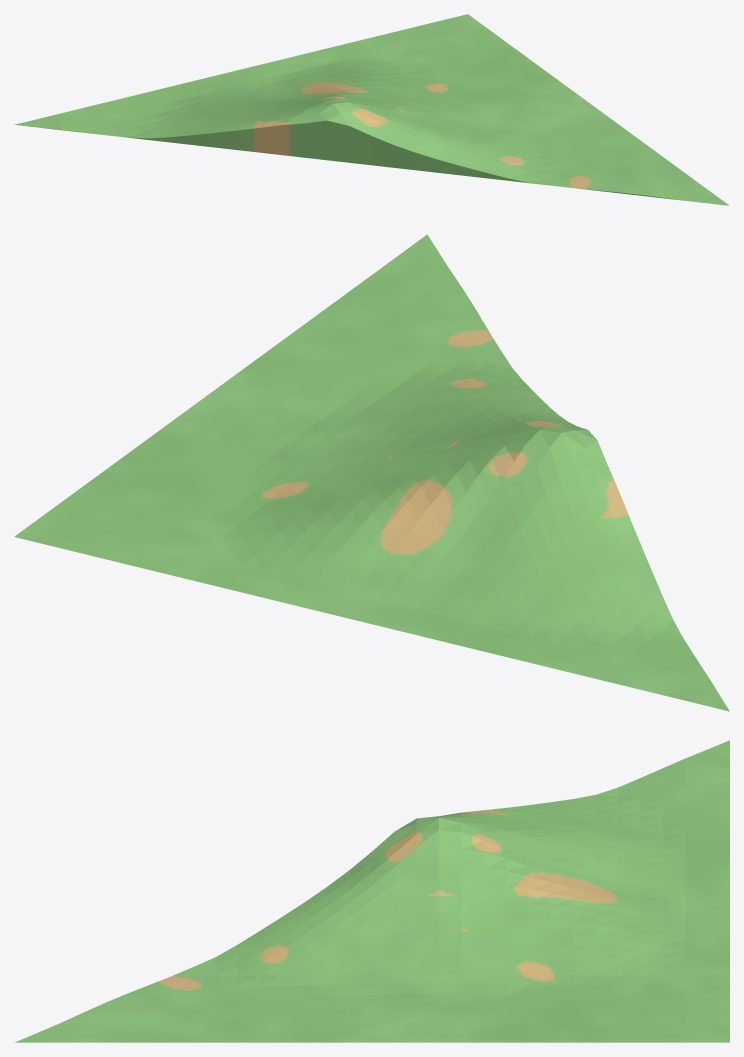
File: Grass_Hills_01_SE.obj
The picture shows the model from 3 angles, top to bottom: view 1: azimuth 30°, elevation 25°; view 2: azimuth 150°, elevation 25°; view 3: azimuth 270°, elevation 25°; orthographic projection. The views are drawn at different scales.
Size of the model in its own units: 10 by 0.9898 by 10.
1 material, 1 textured.
